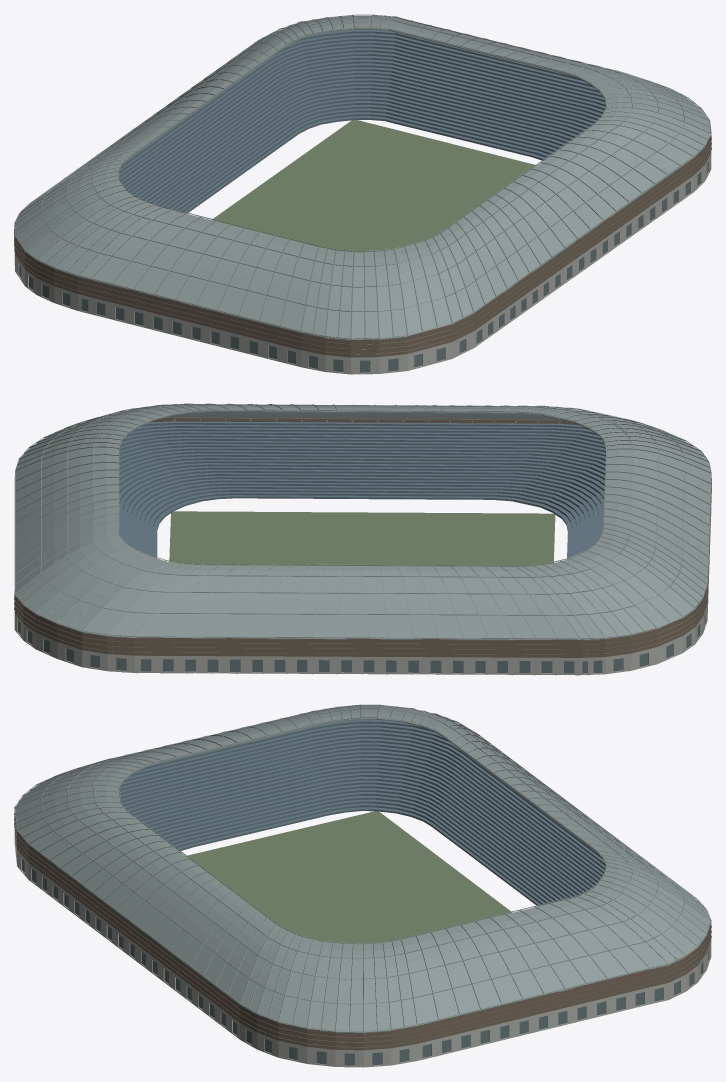
Rendered from stade-des-alpes-near.glb.
3 views of the same model, one above another, from view 1: azimuth 30°, elevation 25°; view 2: azimuth 150°, elevation 25°; view 3: azimuth 270°, elevation 25° (orthographic).
Parts seen in each view (by area): view 1: stade-des-alpes-0-roof, stade-des-alpes-0-seats, stade-des-alpes-0-field, stade-des-alpes-0-metal, stade-des-alpes-0-cladding, stade-des-alpes-0-stone, stade-des-alpes-0-glass; view 2: stade-des-alpes-0-roof, stade-des-alpes-0-seats, stade-des-alpes-0-metal, stade-des-alpes-0-field, stade-des-alpes-0-cladding, stade-des-alpes-0-stone, stade-des-alpes-0-glass; view 3: stade-des-alpes-0-roof, stade-des-alpes-0-seats, stade-des-alpes-0-field, stade-des-alpes-0-metal, stade-des-alpes-0-cladding, stade-des-alpes-0-stone, stade-des-alpes-0-glass.
Boxes of the visible parts, left/top/right/bottom form: stade-des-alpes-0-roof: left=15, top=16, right=710, bottom=340; stade-des-alpes-0-seats: left=119, top=29, right=605, bottom=213; stade-des-alpes-0-field: left=212, top=120, right=536, bottom=252; stade-des-alpes-0-metal: left=14, top=14, right=711, bottom=339; stade-des-alpes-0-cladding: left=14, top=29, right=711, bottom=357; stade-des-alpes-0-stone: left=14, top=153, right=711, bottom=374; stade-des-alpes-0-glass: left=19, top=161, right=708, bottom=372; stade-des-alpes-0-roof: left=15, top=405, right=710, bottom=640; stade-des-alpes-0-seats: left=119, top=421, right=605, bottom=559; stade-des-alpes-0-metal: left=14, top=403, right=711, bottom=675; stade-des-alpes-0-field: left=169, top=511, right=555, bottom=566; stade-des-alpes-0-cladding: left=14, top=417, right=711, bottom=657; stade-des-alpes-0-stone: left=14, top=513, right=711, bottom=675; stade-des-alpes-0-glass: left=18, top=614, right=705, bottom=673; stade-des-alpes-0-roof: left=15, top=706, right=710, bottom=1033; stade-des-alpes-0-seats: left=119, top=719, right=605, bottom=906; stade-des-alpes-0-field: left=186, top=811, right=512, bottom=944; stade-des-alpes-0-metal: left=14, top=704, right=711, bottom=1031; stade-des-alpes-0-cladding: left=14, top=719, right=711, bottom=1050; stade-des-alpes-0-stone: left=14, top=831, right=711, bottom=1067; stade-des-alpes-0-glass: left=22, top=859, right=708, bottom=1065.
Size of the model in its own units: 210 by 23.43 by 192.
